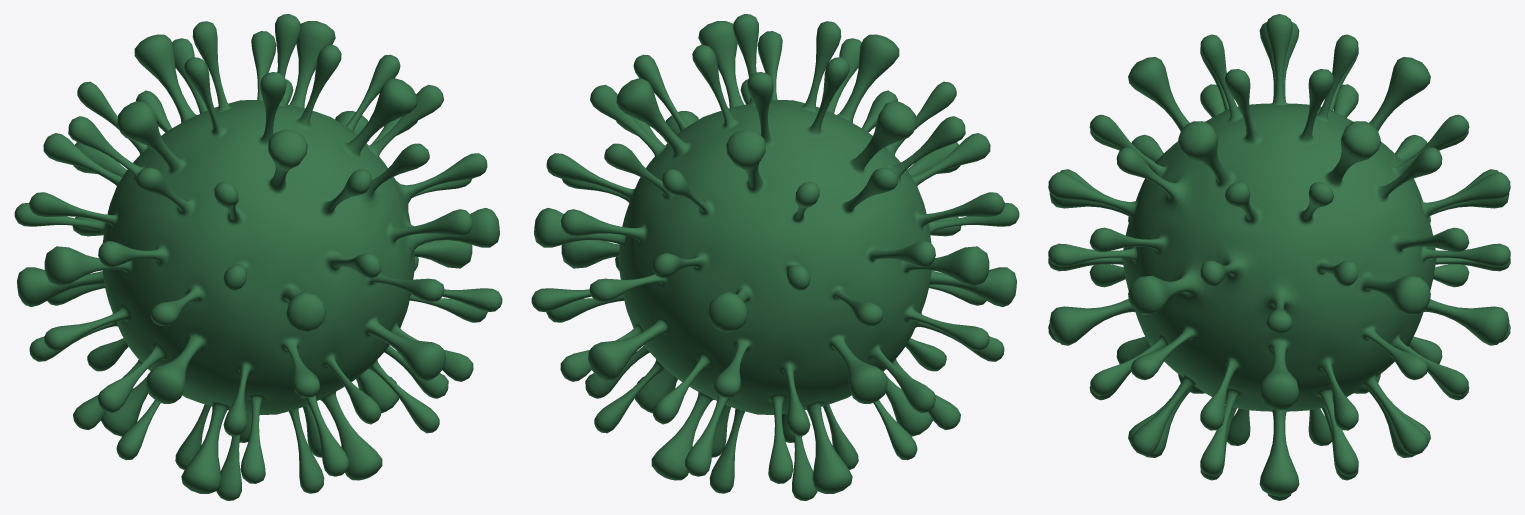
Rendered from virus.fbx.
3 renders of one model, left to right at view 1: azimuth 30°, elevation 25°; view 2: azimuth 150°, elevation 25°; view 3: azimuth 270°, elevation 25°, orthographic.
Visible parts, largest first — view 1: Virus; view 2: Virus; view 3: Virus.
Boxes of the visible parts, x1=… form: Virus: x1=14, y1=14, x2=502, y2=500; Virus: x1=531, y1=14, x2=1019, y2=500; Virus: x1=1048, y1=14, x2=1510, y2=500.
Size of the model in its own units: 295 by 284 by 281.
